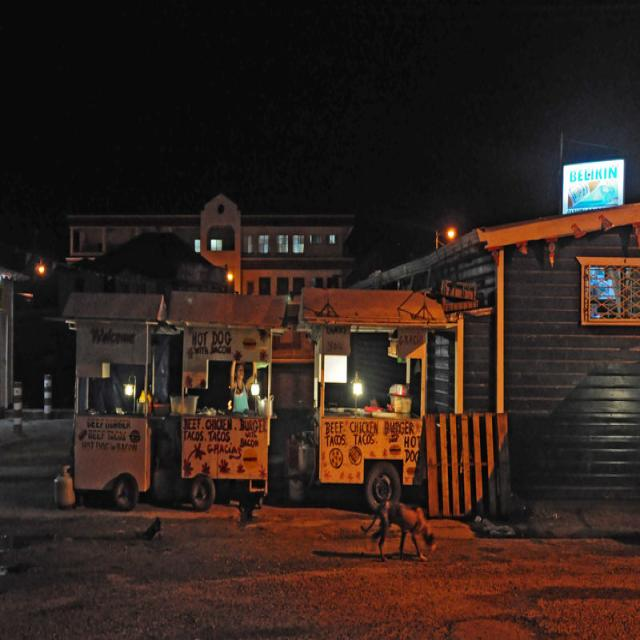Dog: (375, 452, 450, 588)
